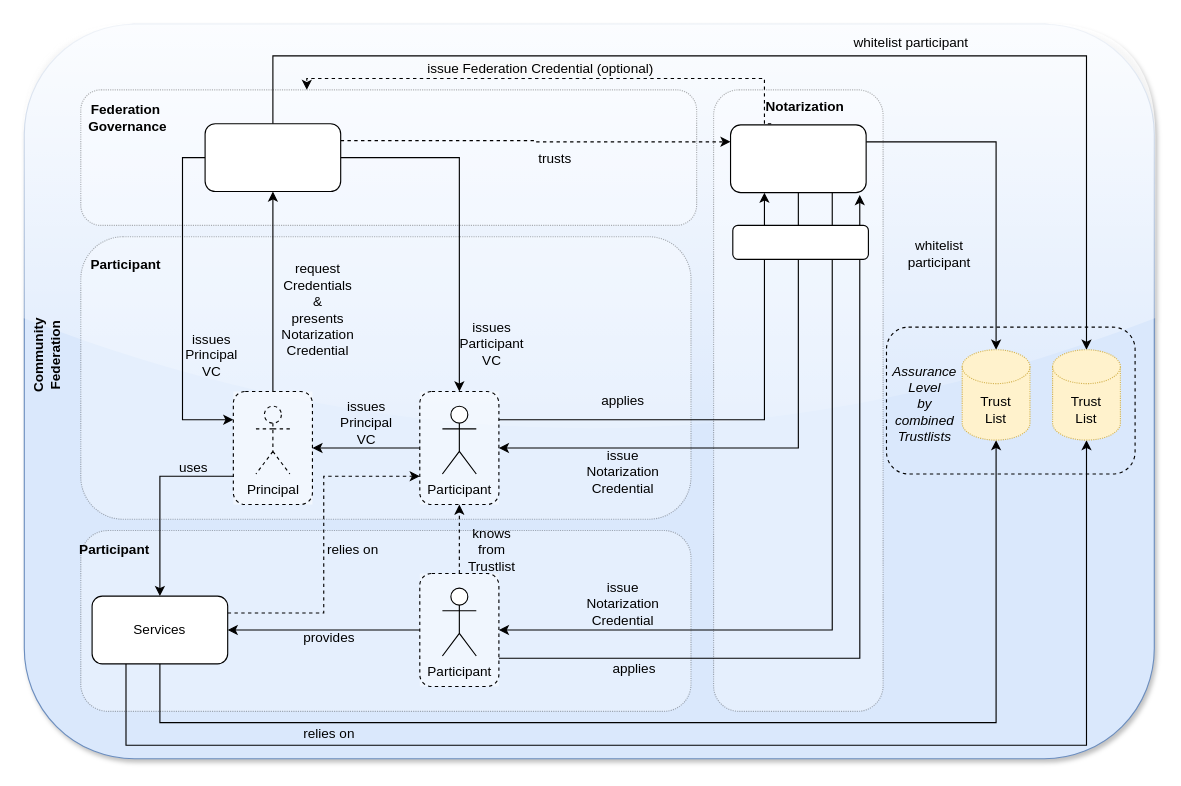
Image size: 1181x786. Some labels were removed from this diagram. The centre of each missing label's shape, as x and y in pixels:
"Compliance Process" belongs at point 800,241.
"Issuance Service" belongs at point 272,157.
"Onboarding Office" belongs at point 797,158.
